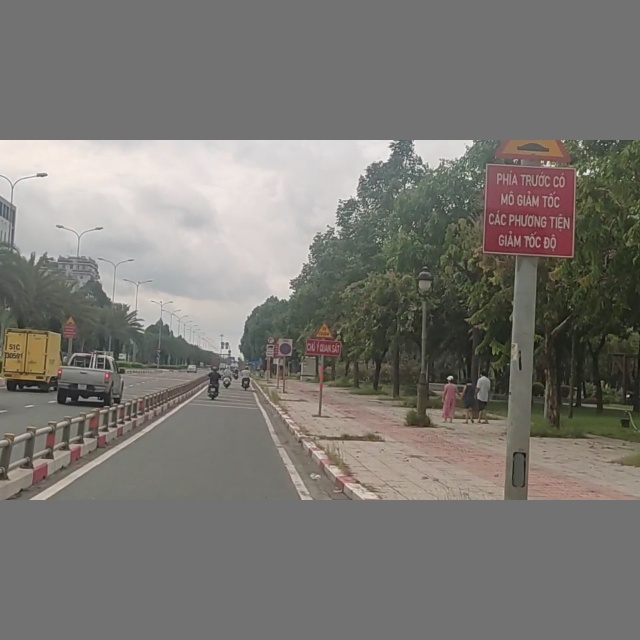P.123b: (267, 337, 275, 343)
P.130: (279, 338, 292, 357)
W.245a: (313, 321, 335, 339)
